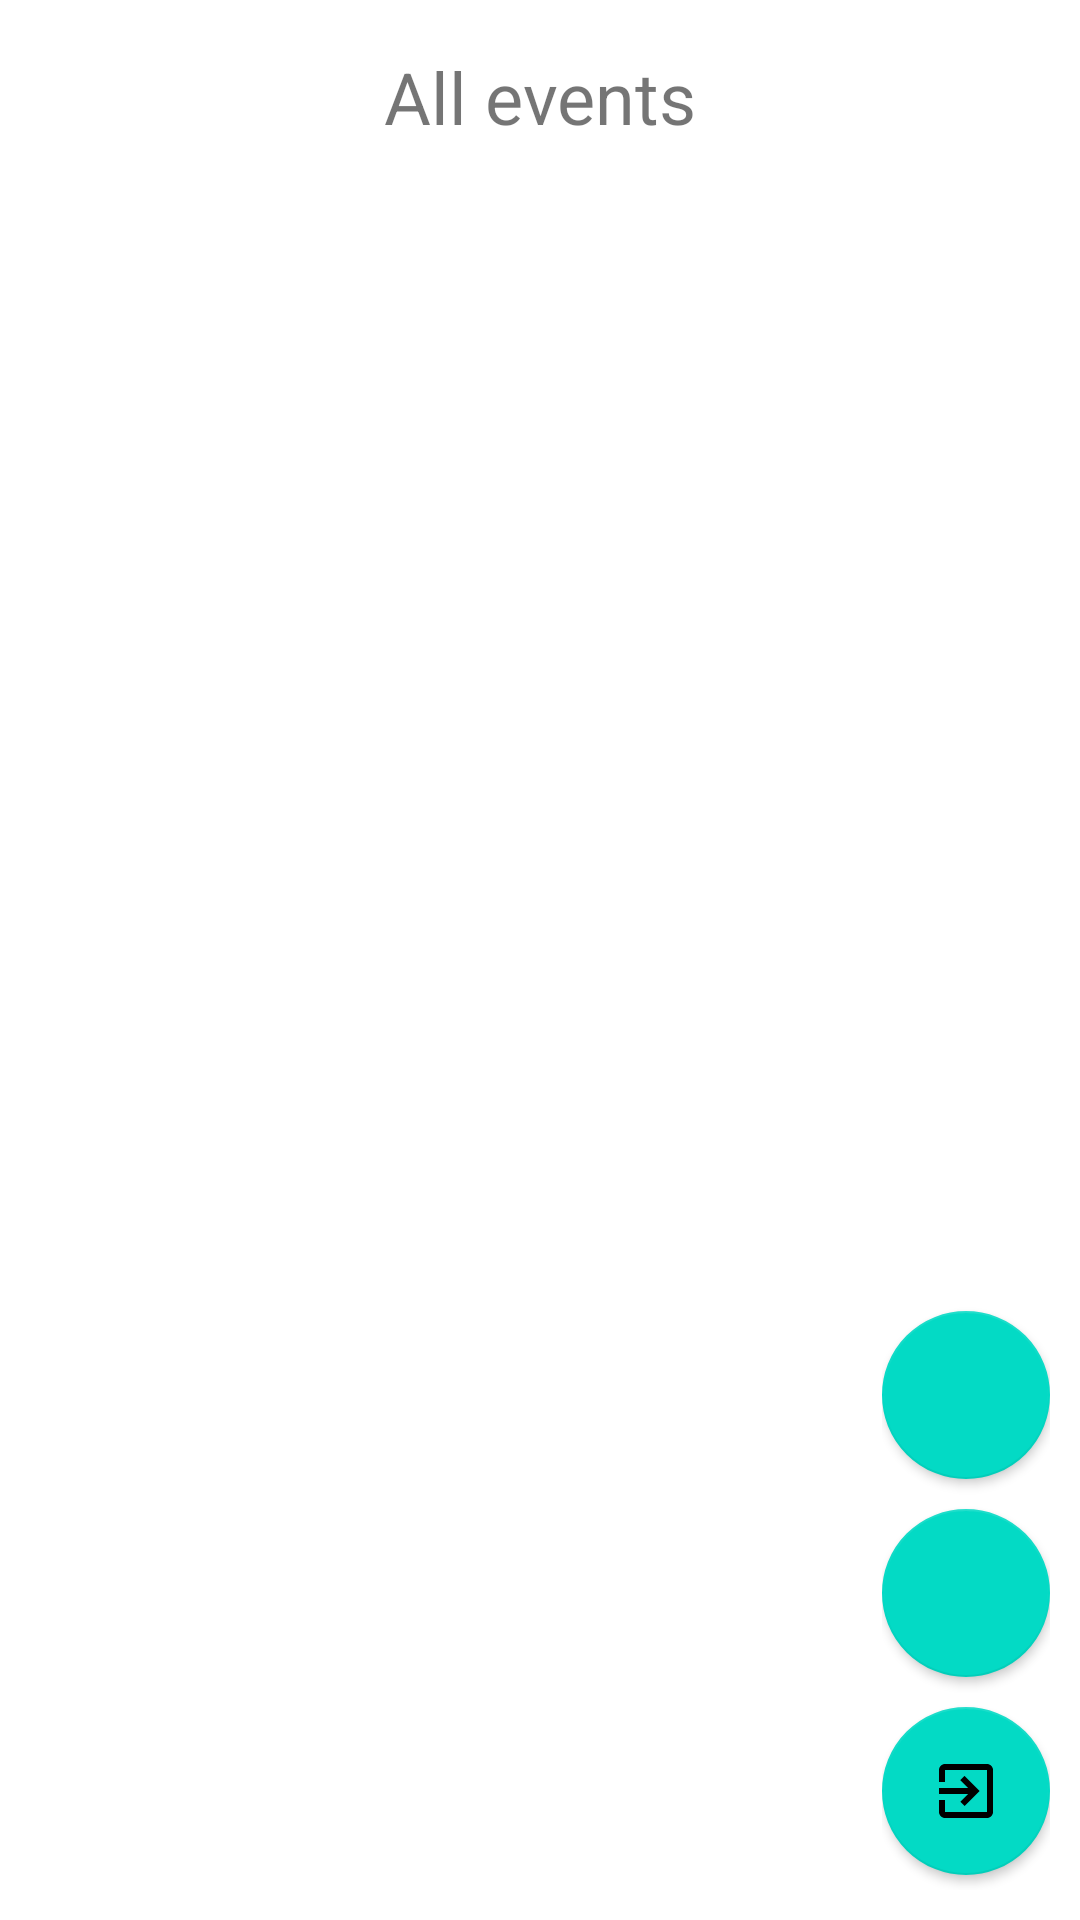

Icons on this 1080px×1920px Android screen, each with the point to tap as (x,y):
exit to app: (966,1791)
